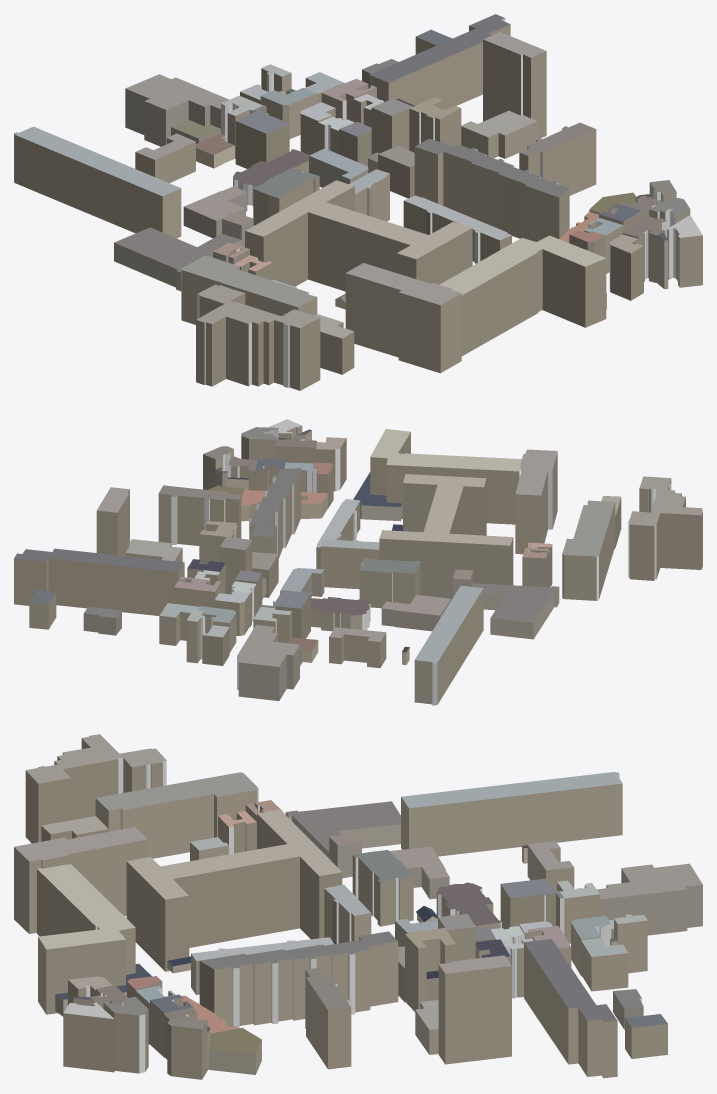
3 renders of one model, top to bottom at view 1: azimuth 30°, elevation 25°; view 2: azimuth 150°, elevation 25°; view 3: azimuth 270°, elevation 25°, orthographic. The views are drawn at different scales.
Parts seen in each view (by area): view 1: tuile; view 2: tuile; view 3: tuile.
Boxes of the visible parts, <box> form: tuile: <box>14,14,702,390</box>; tuile: <box>14,419,702,705</box>; tuile: <box>14,734,702,1079</box>.
Size of the model in its own units: 291 by 51.06 by 298.
